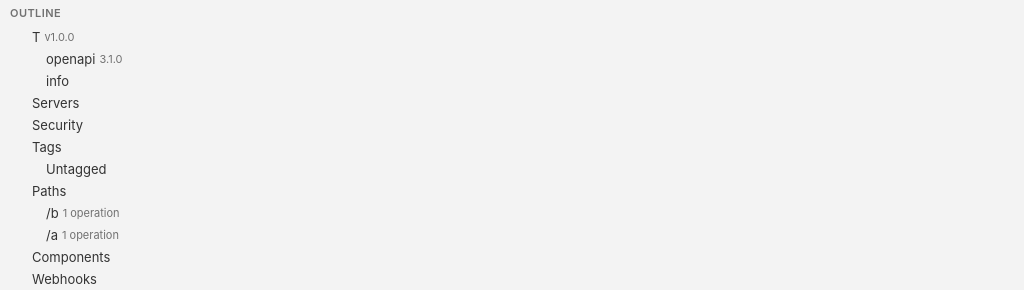
Test: OpenApiOutlineTree › context menu (Phase 4) › opens a menu with Add Path and Copy JSON Pointer on the Paths group
Right-click the list item "Paths".
right_click(37, 191)  # box [8,183,66,199]
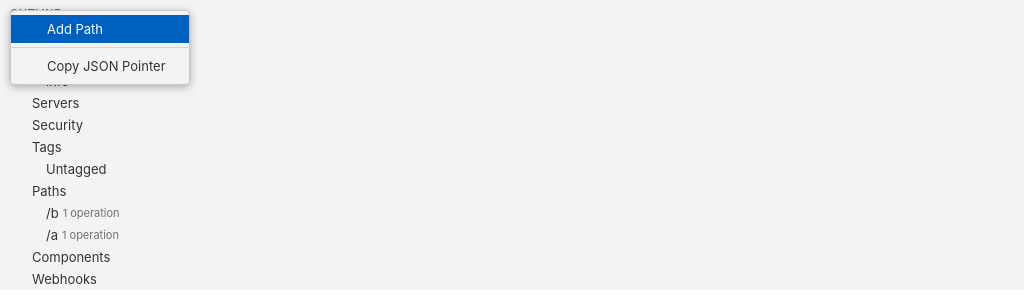
Now the menu item "Add Path" is shown, box [11,15,189,43]
Now the menu item "Copy JSON Pointer" is shown, box [11,52,189,80]
